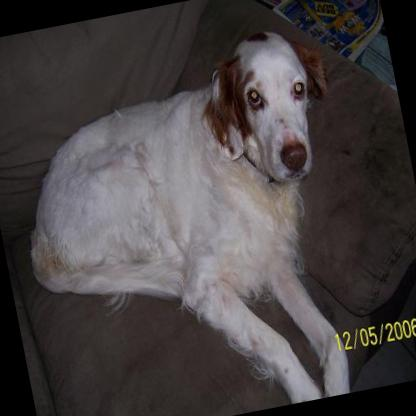English_setter: (0, 15, 385, 416)
